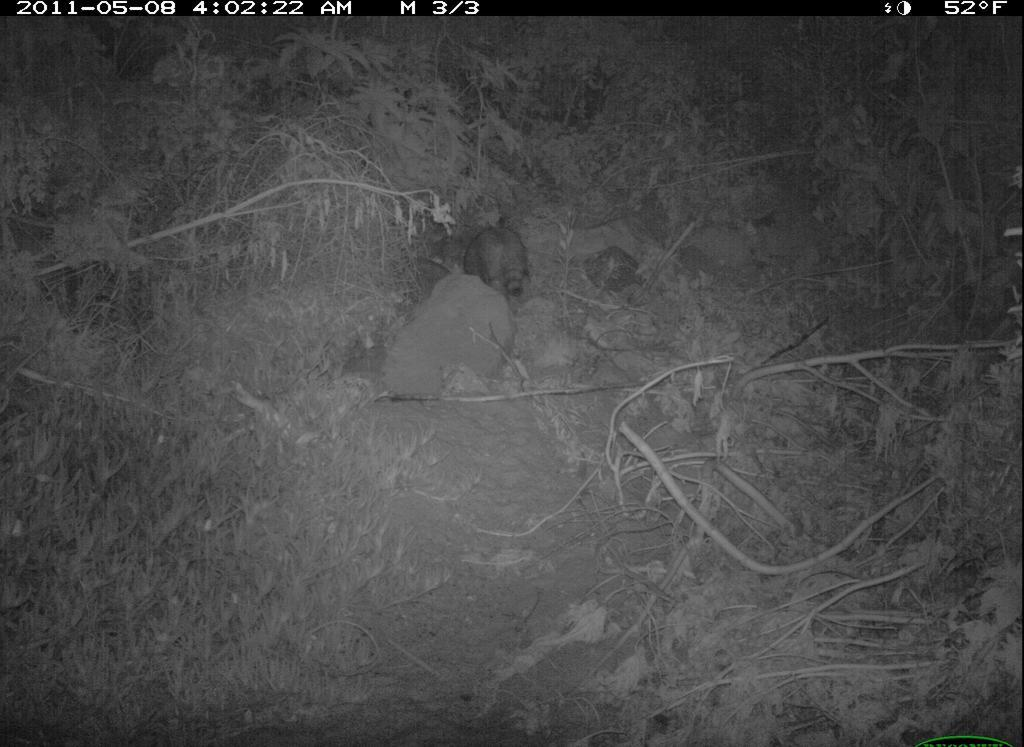raccoon: (449, 210, 546, 322)
